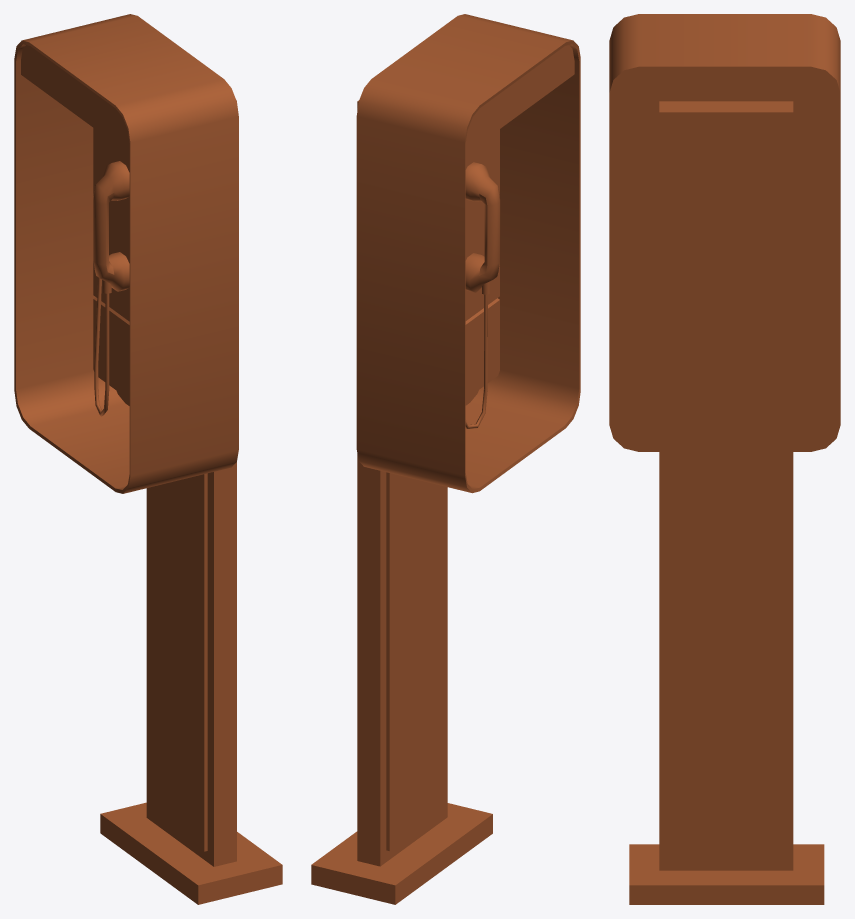
The model's file is mcp_pay_phone_02_LOD_0.FBX.
The picture shows the model from 3 angles, left to right: view 1: azimuth 30°, elevation 25°; view 2: azimuth 150°, elevation 25°; view 3: azimuth 270°, elevation 25°; orthographic projection.
Visible parts, largest first — view 1: mcp_pay_phone_02; view 2: mcp_pay_phone_02; view 3: mcp_pay_phone_02.
Boxes of the visible parts, x1,y1,x2,y2 form: mcp_pay_phone_02: (14,14,282,904); mcp_pay_phone_02: (311,14,580,904); mcp_pay_phone_02: (609,14,840,904).
Bounding box in the file's own units: 43.33 × 208 × 53.66.
